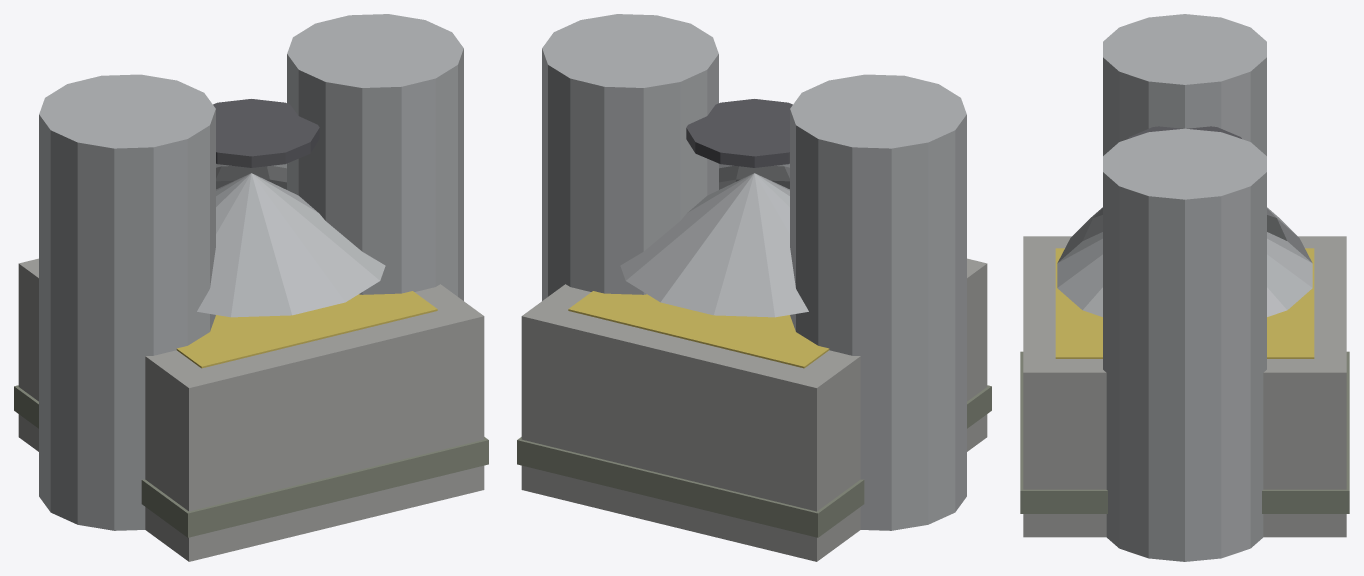
Rendered from chinese_nuclear.glb.
3 views of the same model, side by side, from view 1: azimuth 30°, elevation 25°; view 2: azimuth 150°, elevation 25°; view 3: azimuth 270°, elevation 25° (orthographic). The views are drawn at different scales.
Parts seen in each view (by area): view 1: stack_l, hull, stack_r, turret, stripe, hazard, radar; view 2: stack_l, hull, stack_r, turret, stripe, hazard, radar; view 3: stack_r, hull, stack_l, turret, hazard, stripe.
Part boxes in pixels (left/top/right/bottom): stack_l: left=39, top=74, right=215, bottom=530; hull: left=18, top=258, right=484, bottom=561; stack_r: left=287, top=14, right=463, bottom=300; turret: left=197, top=163, right=385, bottom=317; stripe: left=14, top=385, right=488, bottom=537; hazard: left=176, top=291, right=437, bottom=368; radar: left=213, top=99, right=319, bottom=167; stack_l: left=790, top=74, right=966, bottom=530; hull: left=521, top=258, right=987, bottom=561; stack_r: left=542, top=14, right=718, bottom=300; turret: left=620, top=163, right=808, bottom=317; stripe: left=517, top=385, right=991, bottom=537; hazard: left=568, top=291, right=829, bottom=368; radar: left=686, top=99, right=792, bottom=167; stack_r: left=1103, top=128, right=1266, bottom=561; hull: left=1023, top=236, right=1346, bottom=537; stack_l: left=1103, top=14, right=1266, bottom=155; turret: left=1057, top=207, right=1312, bottom=316; hazard: left=1055, top=248, right=1314, bottom=358; stripe: left=1020, top=351, right=1349, bottom=513.
Size of the model in its own units: 21.76 by 19.8 by 16.32.
